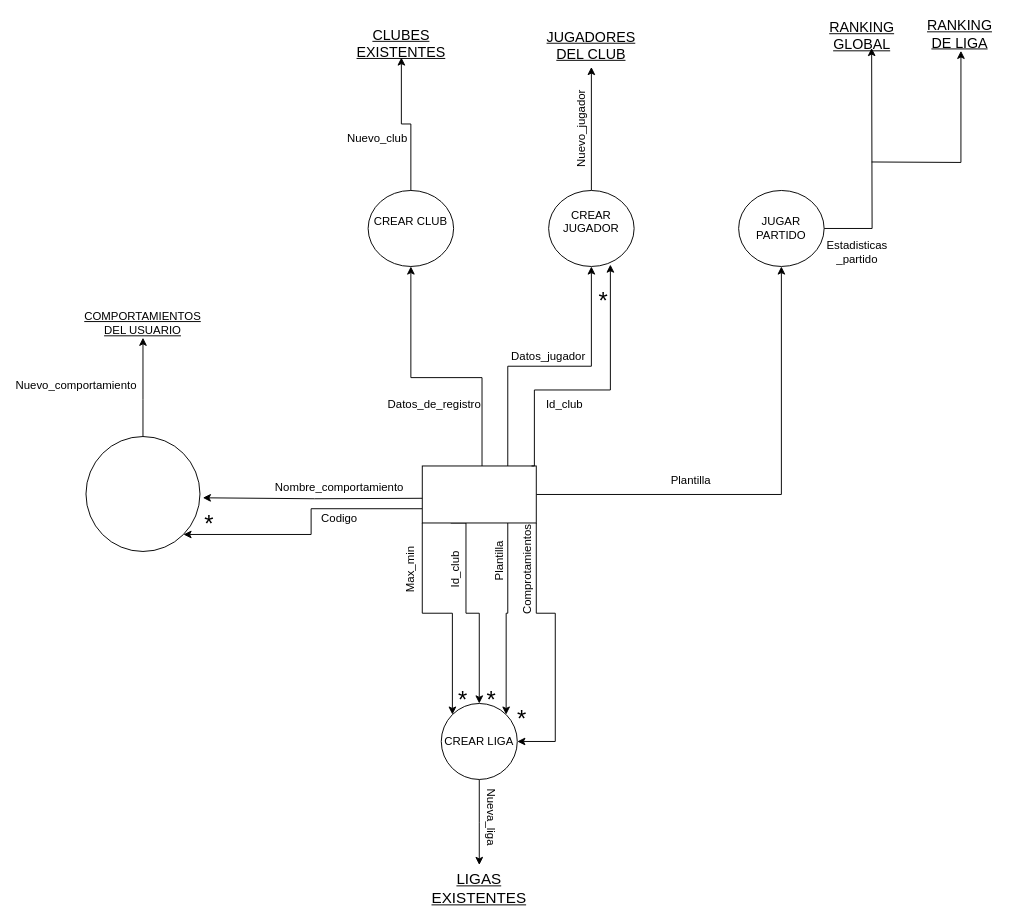
Image size: 1009x922. Some labels were removed from this diagram. Here are the shapes that lost their labels. From the top down, the centre of each, then its label:
the point at 142,493: CREAR COMPORTAMIENTO
the point at 478,494: USUARIO
